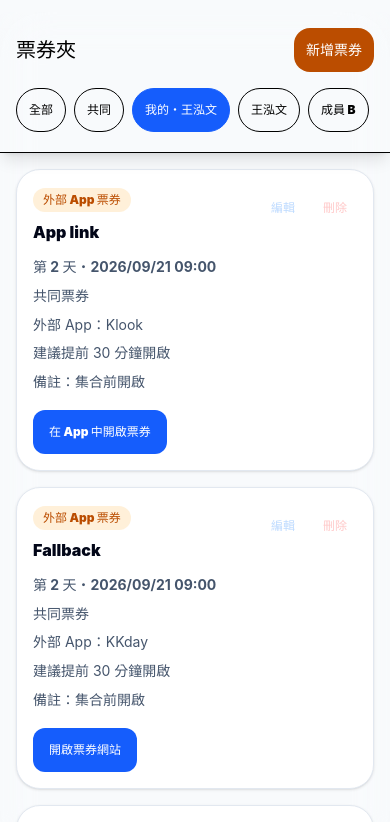
TicketWalletSection › supports external App link, fallback-only, and manual launch modes
What coordinates should you click on to do the following:
click the button with test id "ticket-filter-all"
I would click on:
 (41, 110)
Its box is x1=16 y1=88 x2=66 y2=132.
(page scrolled)
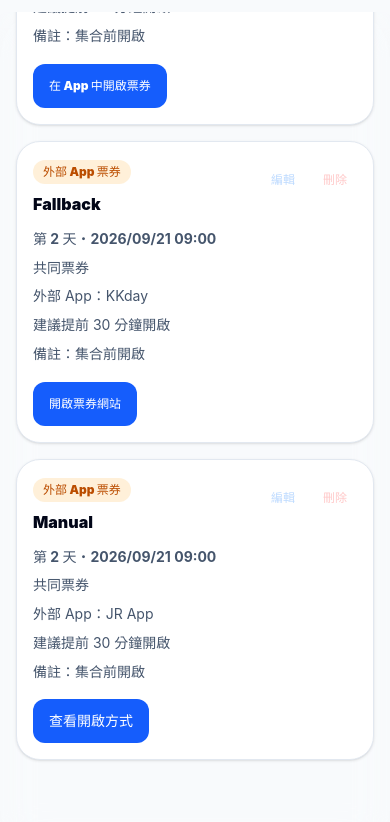
expect the button "查看開啟方式" is shown: met, box x1=33 y1=699 x2=149 y2=743
